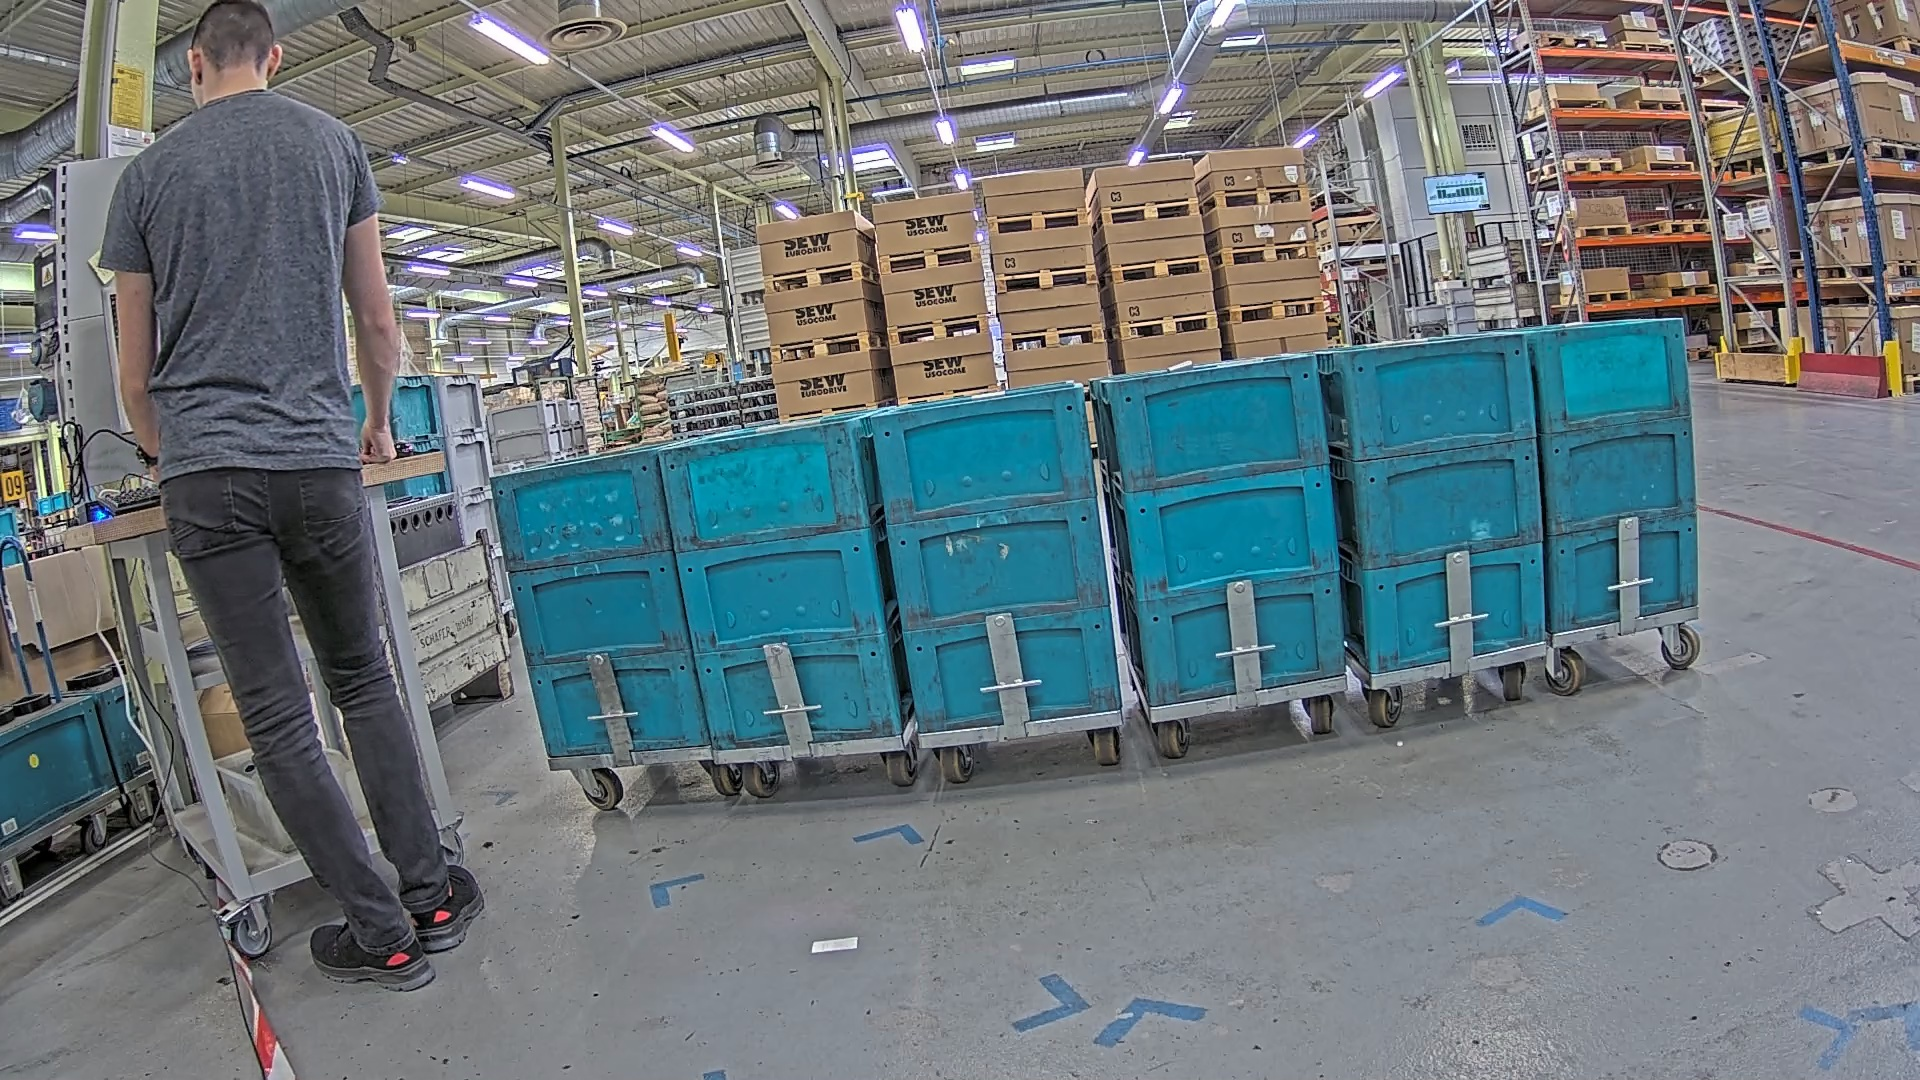B8: (869, 385, 1124, 735), (1104, 352, 1348, 708), (658, 417, 905, 754), (1336, 332, 1548, 675), (485, 446, 713, 758), (1528, 316, 1700, 637), (1611, 316, 1613, 324)
